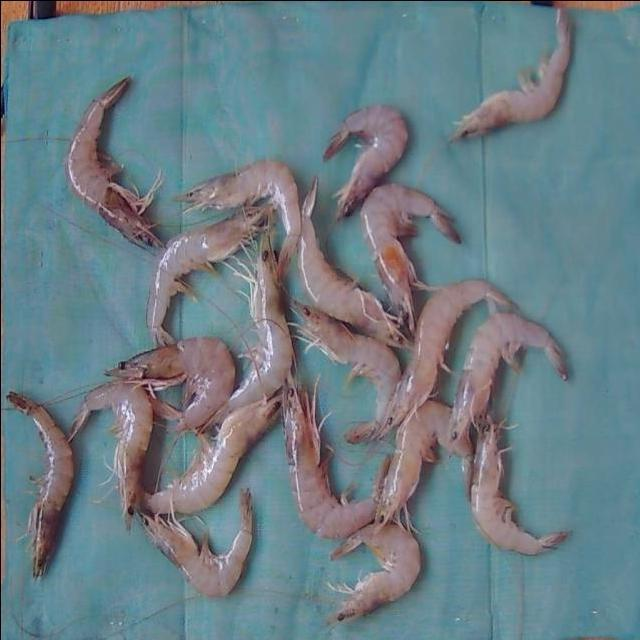shrimp: (373, 278, 517, 437), (197, 229, 292, 434), (297, 177, 407, 345), (446, 312, 568, 460), (282, 375, 391, 539), (145, 204, 268, 345), (64, 75, 160, 245), (142, 395, 279, 514), (450, 6, 571, 140), (290, 301, 400, 443), (359, 182, 460, 334), (176, 158, 300, 274), (470, 422, 568, 555), (4, 391, 71, 578), (67, 381, 151, 530), (375, 400, 474, 524), (104, 336, 233, 431), (140, 489, 251, 598), (322, 103, 407, 219), (325, 523, 420, 624)
